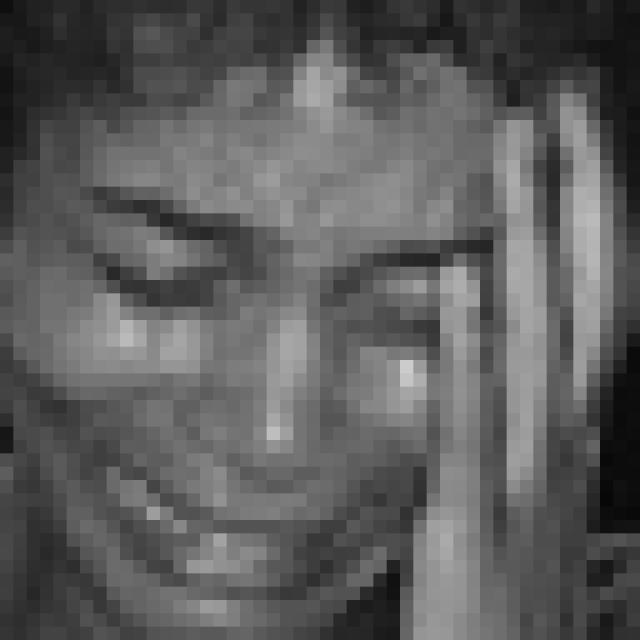sad: (48, 181, 487, 614)
